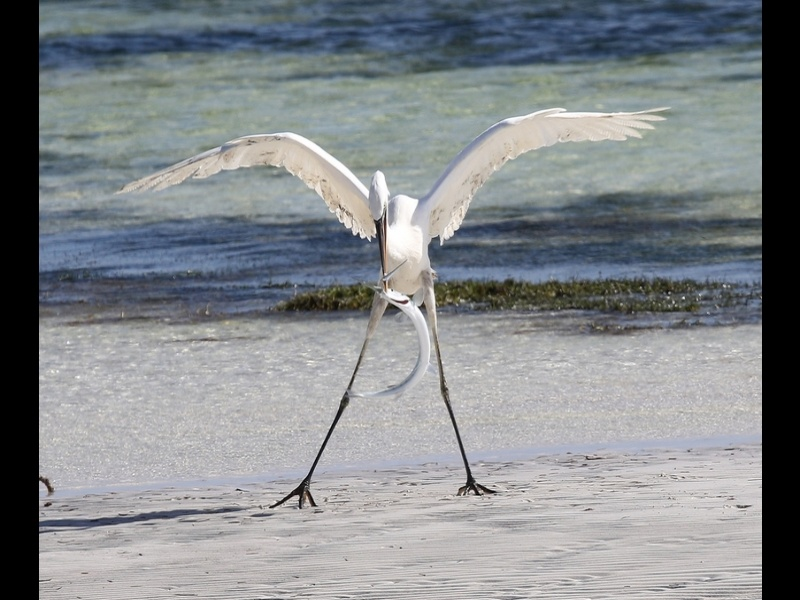heron: (113, 109, 680, 513)
